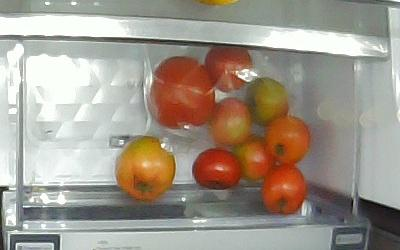tomato: (116, 136, 177, 201), (266, 114, 311, 165), (263, 165, 308, 215), (193, 148, 244, 187), (233, 137, 276, 183)
tomato_vinyl: (146, 57, 217, 128), (203, 49, 254, 92), (246, 77, 290, 126), (211, 98, 251, 148)
